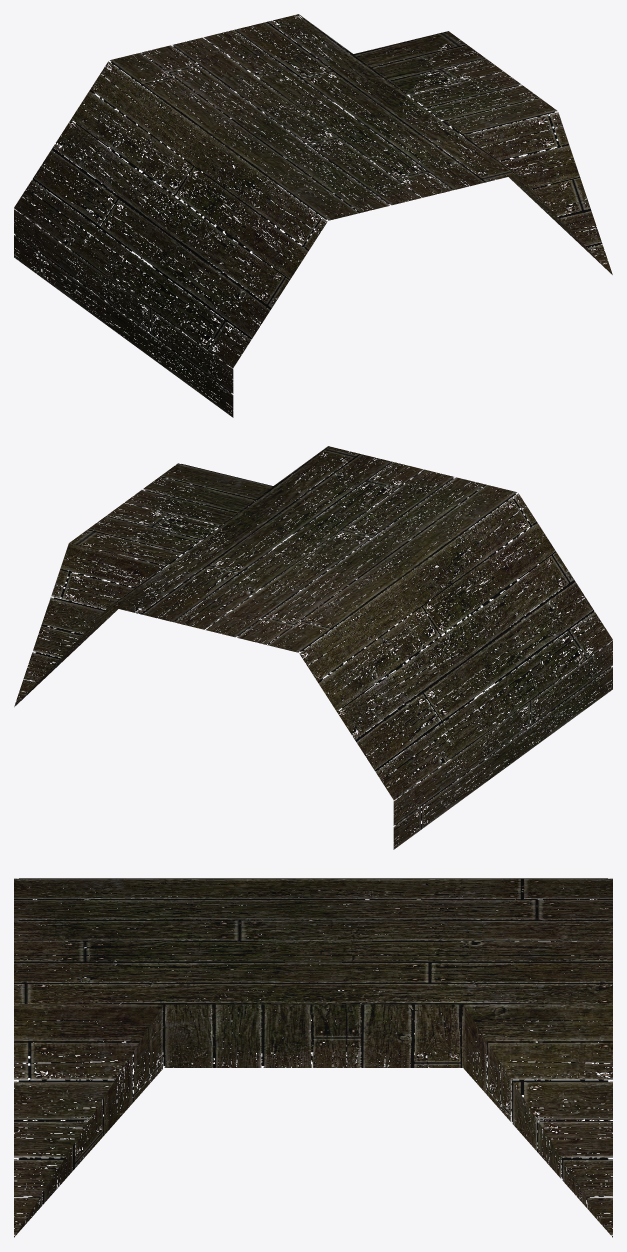
File: arched_wooden_roof_t_cross.dae
The picture shows the model from 3 angles, top to bottom: view 1: azimuth 30°, elevation 25°; view 2: azimuth 150°, elevation 25°; view 3: azimuth 270°, elevation 25°; orthographic projection. The views are drawn at different scales.
Parts seen in each view (by area): view 1: polySurface4; view 2: polySurface4; view 3: polySurface4.
Boxes of the visible parts, x1,y1,x2,y2 form: polySurface4: (14, 14, 612, 417); polySurface4: (14, 446, 612, 849); polySurface4: (14, 878, 612, 1237).
Bounding box in the file's own units: 4 × 1.75 × 4.
